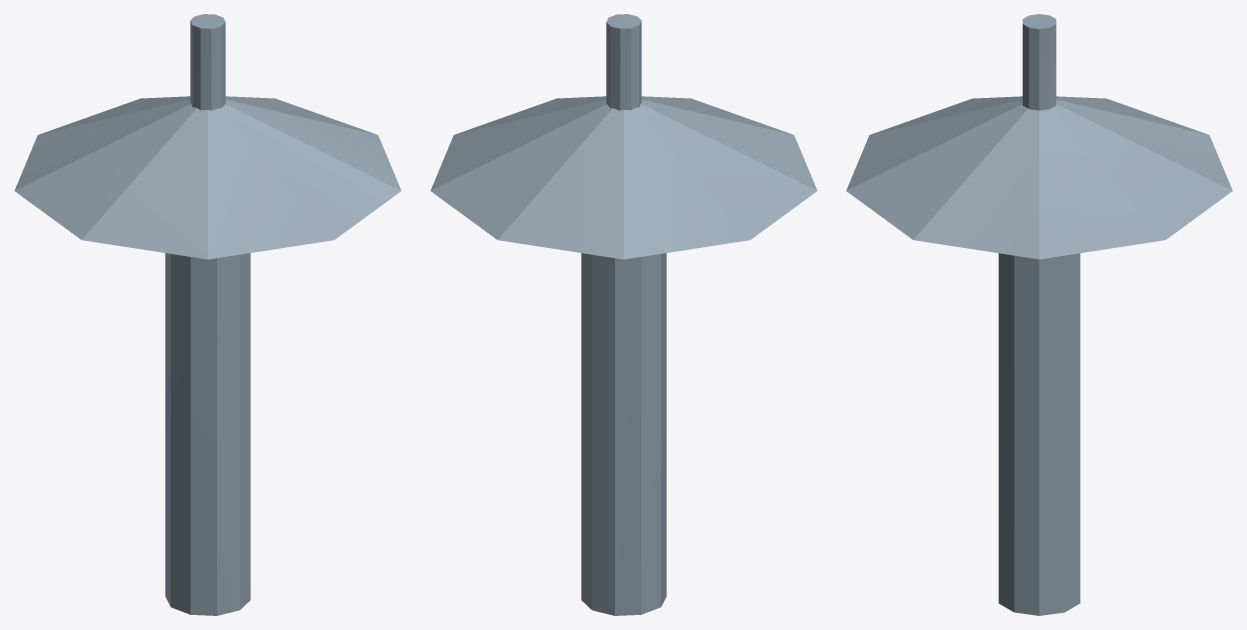
Rendered from satellite_dish-03.glb.
3 renders of one model, left to right at view 1: azimuth 30°, elevation 25°; view 2: azimuth 150°, elevation 25°; view 3: azimuth 270°, elevation 25°, orthographic.
Visible parts, largest first — view 1: world; view 2: world; view 3: world.
Part boxes in pixels (left/top/right/bottom): world: left=14, top=14, right=401, bottom=615; world: left=430, top=14, right=817, bottom=615; world: left=846, top=14, right=1232, bottom=615.
Size of the model in its own units: 1.07 by 1.78 by 1.08.
